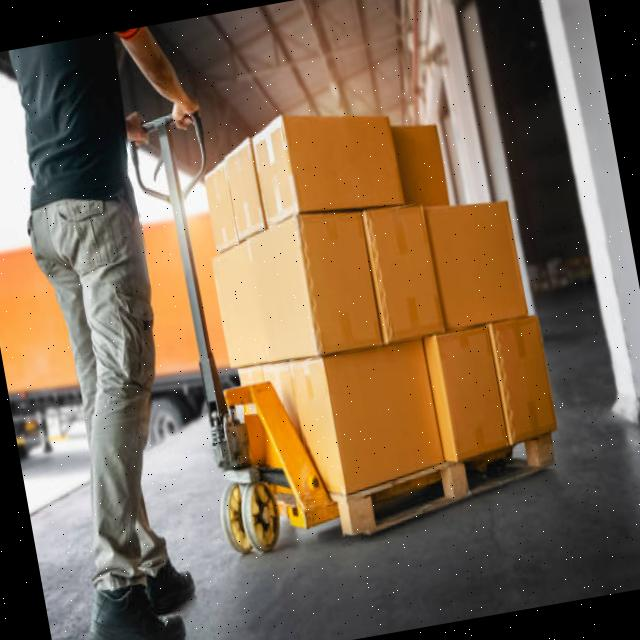Wooden-Pallets: (328, 428, 560, 544)
